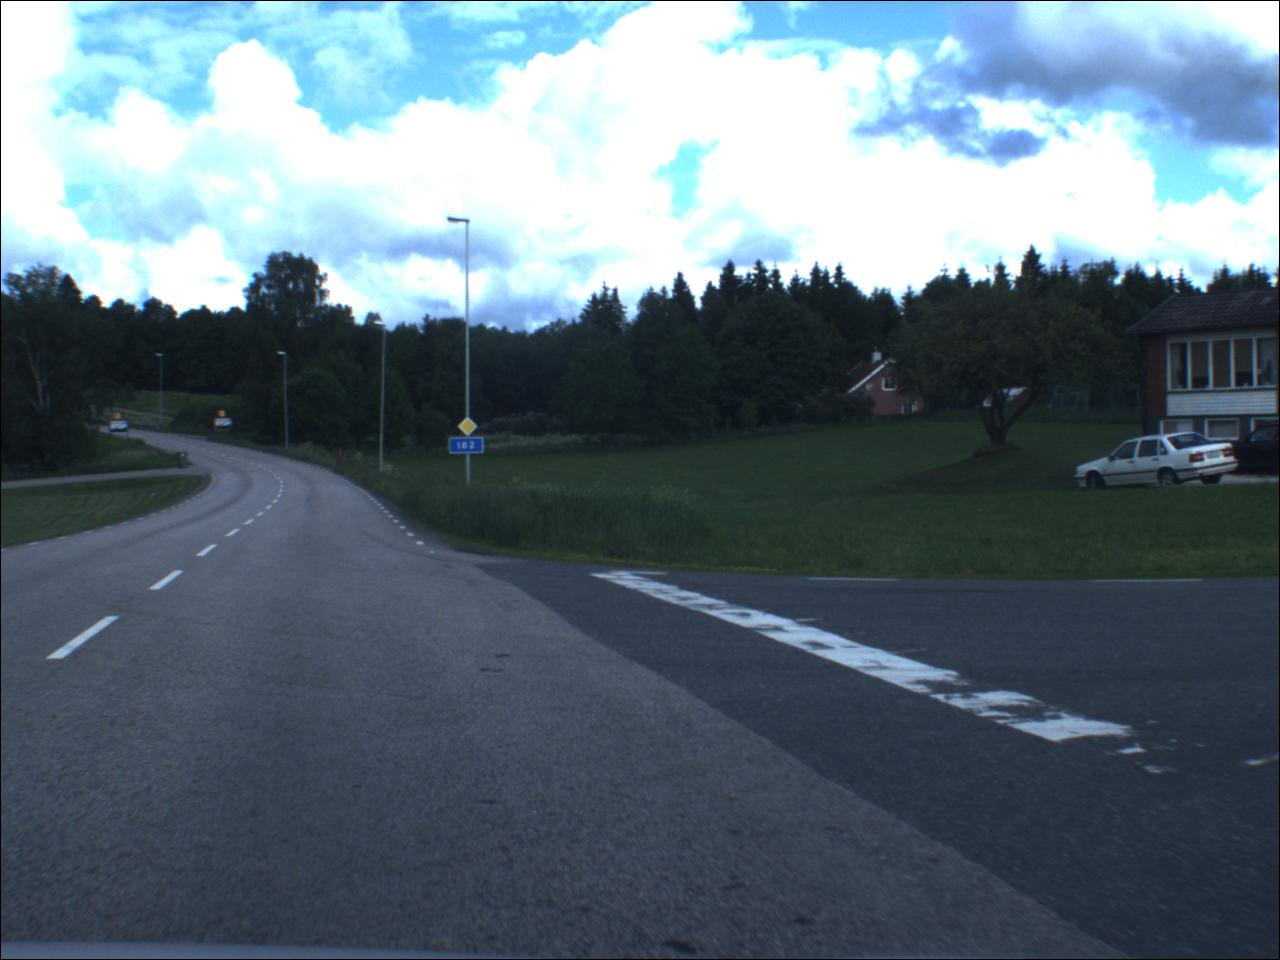80_SIGN: (114, 412, 125, 423), (220, 412, 229, 419)
PRIORITY_ROAD: (460, 418, 481, 438)
